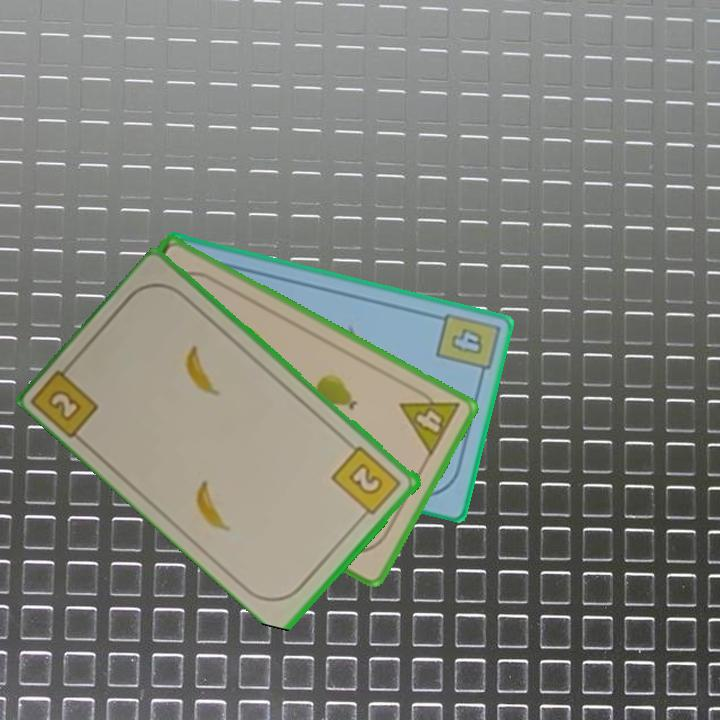2b: (328, 442, 405, 523), (31, 355, 102, 441)
4b: (432, 309, 501, 383)
4p: (396, 381, 463, 459)
